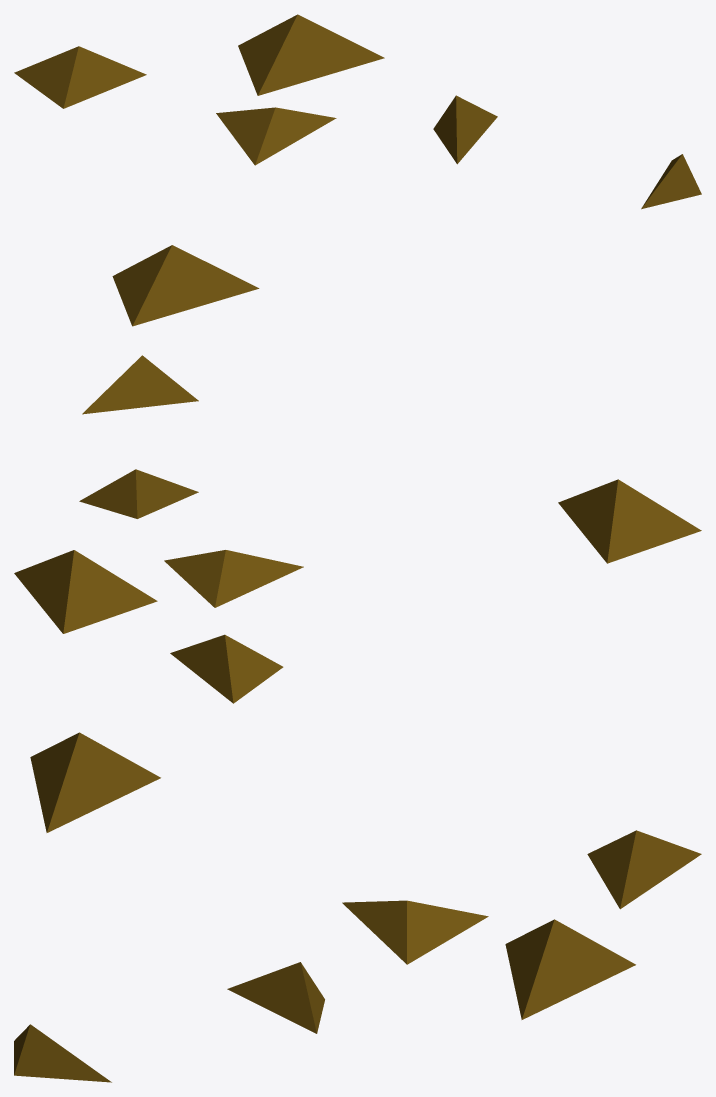
3 renders of one model, top to bottom at view 1: azimuth 30°, elevation 25°; view 2: azimuth 150°, elevation 25°; view 3: azimuth 270°, elevation 25°, orthographic. The views are drawn at different scales.
Bounding box in the file's own units: 94 × 8 × 84.
1 material, 1 textured.
